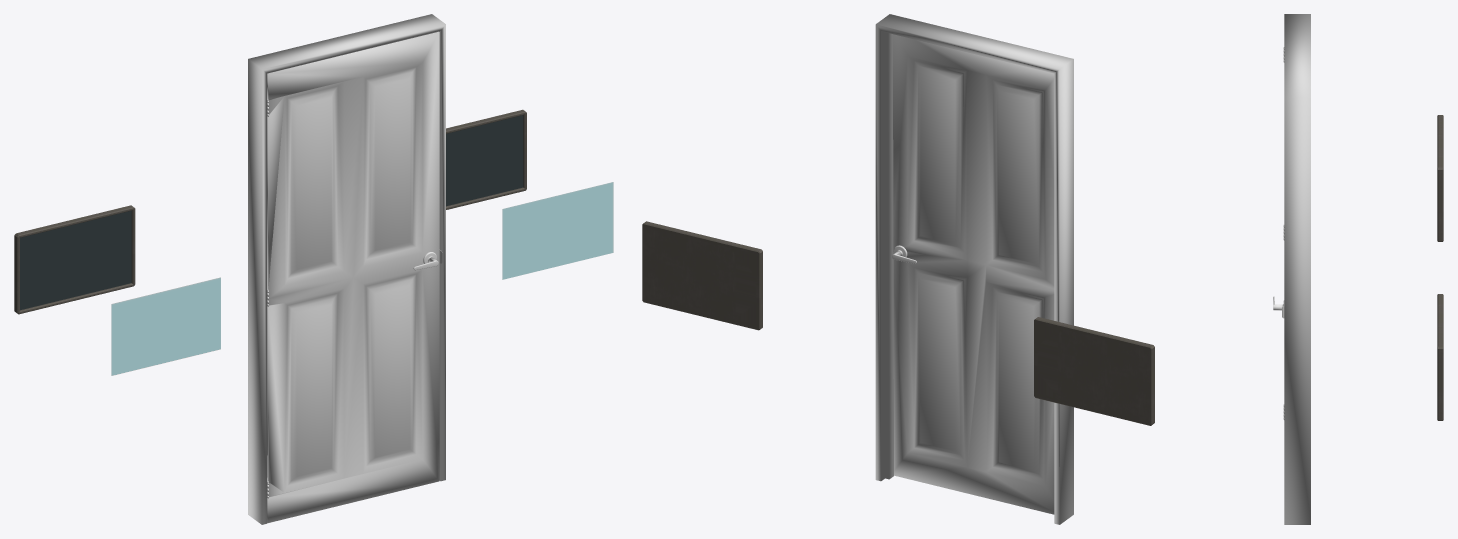
The model's file is white_door.glb.
3 views of the same model, side by side, from view 1: azimuth 30°, elevation 25°; view 2: azimuth 150°, elevation 25°; view 3: azimuth 270°, elevation 25° (orthographic). The views are drawn at different scales.
Visible parts, largest first — view 1: Door.001, Solid 25, Door Frame, Blender Bros Sci-Fi UI Pack_009, Blender Bros Sci-Fi UI Pack_018; view 2: Door.001, Solid 25, Door Frame; view 3: Door Frame, Solid 25.
Part boxes in pixels (x1,y1,x2,y2): Door.001: [267, 31, 439, 522]; Solid 25: [14, 109, 526, 314]; Door Frame: [248, 14, 445, 524]; Blender Bros Sci-Fi UI Pack_009: [502, 182, 613, 279]; Blender Bros Sci-Fi UI Pack_018: [111, 277, 220, 375]; Door.001: [893, 34, 1054, 514]; Solid 25: [642, 221, 1154, 425]; Door Frame: [875, 14, 1073, 524]; Door Frame: [1283, 14, 1310, 524]; Solid 25: [1437, 115, 1443, 420].
Bounding box in the file's own units: 2.42 × 2.06 × 0.7626.
Materials: 8 (3 with a texture image).
